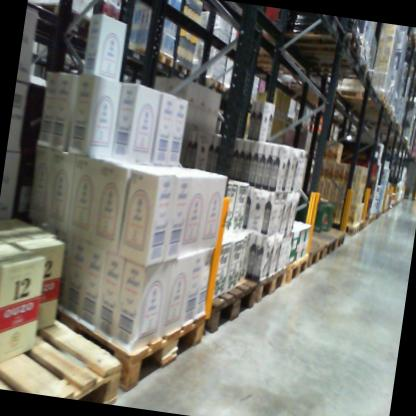pallet: (36, 258, 213, 403), (0, 285, 132, 403), (198, 267, 266, 345), (271, 19, 362, 70), (302, 47, 375, 91), (236, 257, 289, 313), (232, 35, 297, 78), (35, 0, 100, 30), (290, 231, 326, 276), (128, 41, 179, 71), (330, 84, 388, 110), (303, 228, 343, 264), (317, 223, 348, 258), (284, 249, 310, 290), (273, 75, 319, 98), (325, 215, 360, 243), (196, 73, 225, 93), (171, 59, 196, 82), (400, 29, 416, 57), (355, 217, 368, 232)
